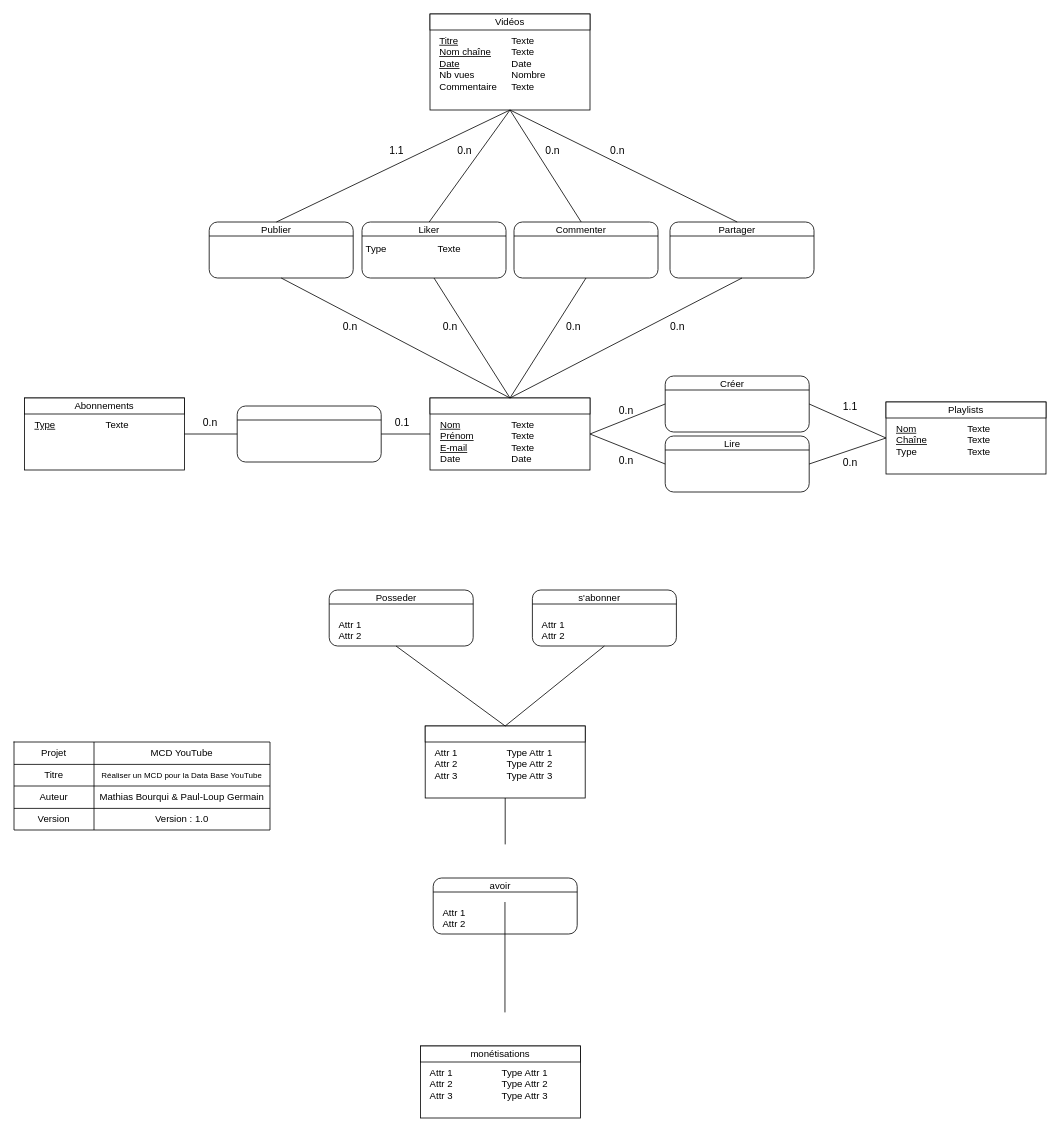
The diagram is 1060 pixels wide and 1132 high, and some of its shapes have lost their labels. Here are the shapes that lost their labels. From the top down, the centre of each, then its label:
At pixel 509 405: "Utilisateurs".
At pixel 308 433: "Payer".
At pixel 504 733: "chaines".
